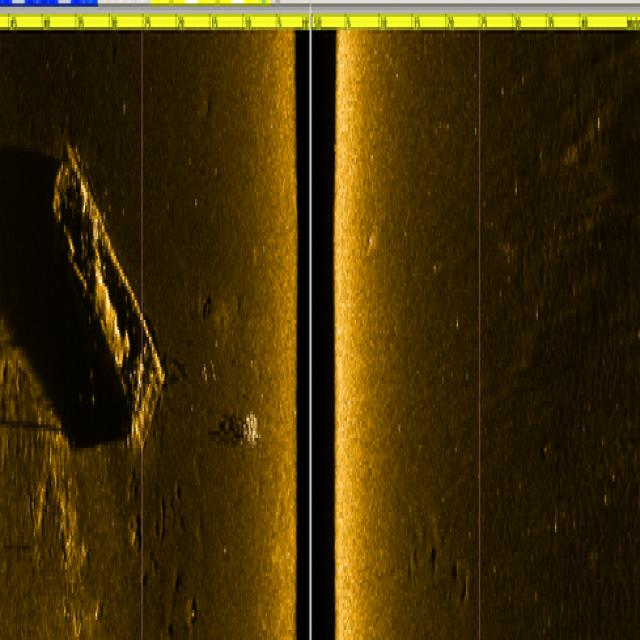ship: (46, 128, 165, 451)
